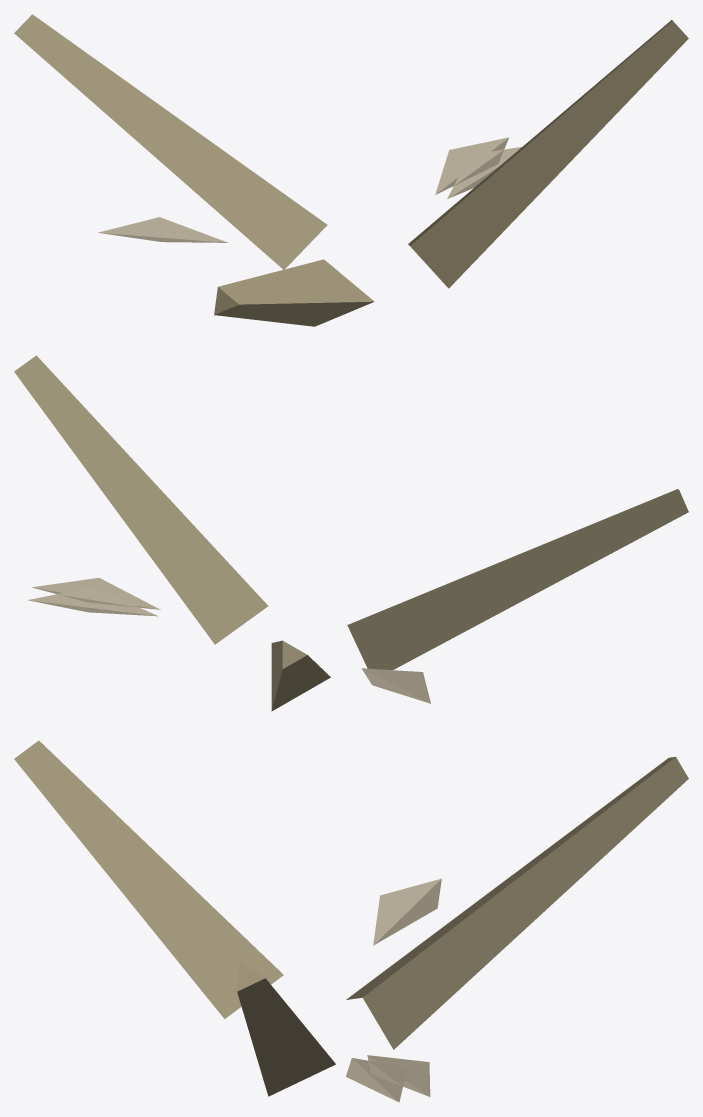
File: guan.yueju@withered__summer.glb
3 renders of one model, top to bottom at view 1: azimuth 30°, elevation 25°; view 2: azimuth 150°, elevation 25°; view 3: azimuth 270°, elevation 25°, orthographic. The views are drawn at different scales.
Visible parts, largest first — view 1: guan.yueju@withered__summer; view 2: guan.yueju@withered__summer; view 3: guan.yueju@withered__summer.
Boxes of the visible parts, x1=… form: guan.yueju@withered__summer: x1=14, y1=14, x2=688, y2=326; guan.yueju@withered__summer: x1=14, y1=355, x2=688, y2=711; guan.yueju@withered__summer: x1=14, y1=740, x2=688, y2=1102.
Bounding box in the file's own units: 0.4165 × 0.1612 × 0.3889.
